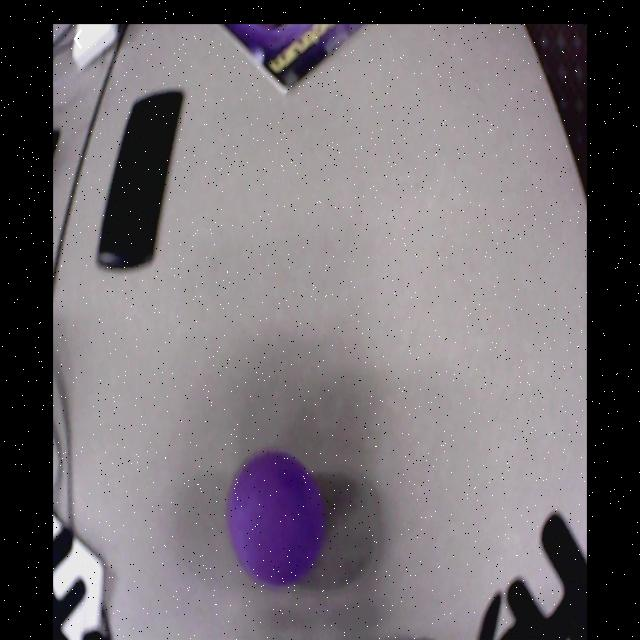ball: (229, 450, 323, 586)
